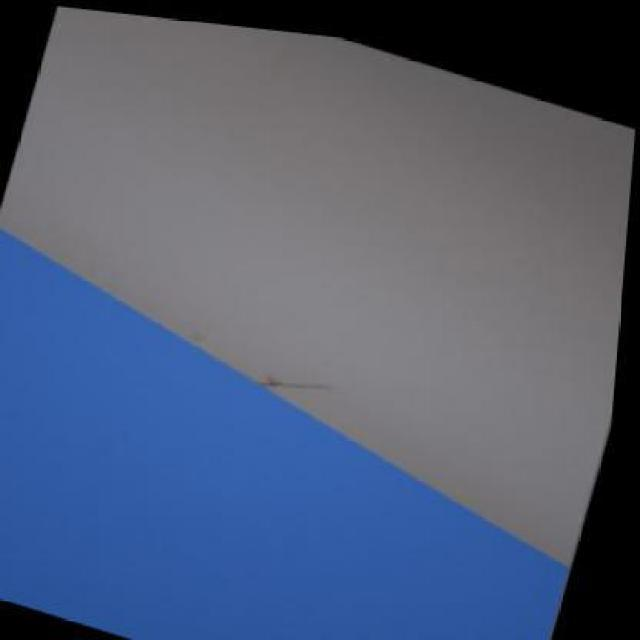Crack: (260, 351, 342, 398)
